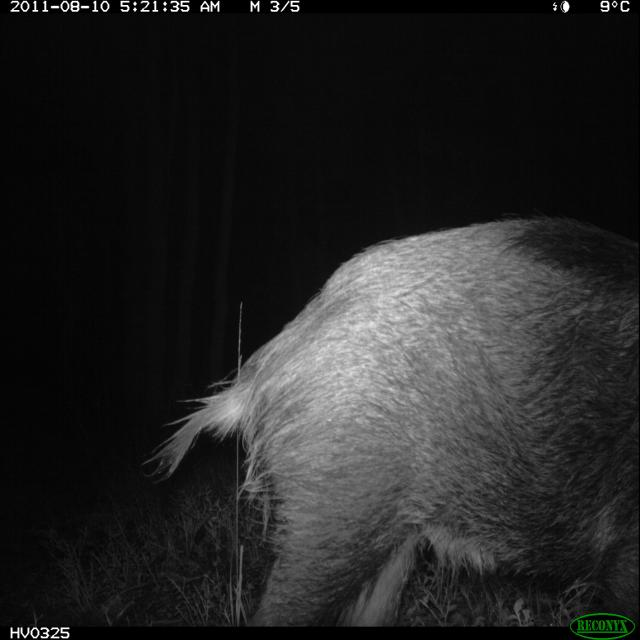boar: (211, 196, 629, 629)
